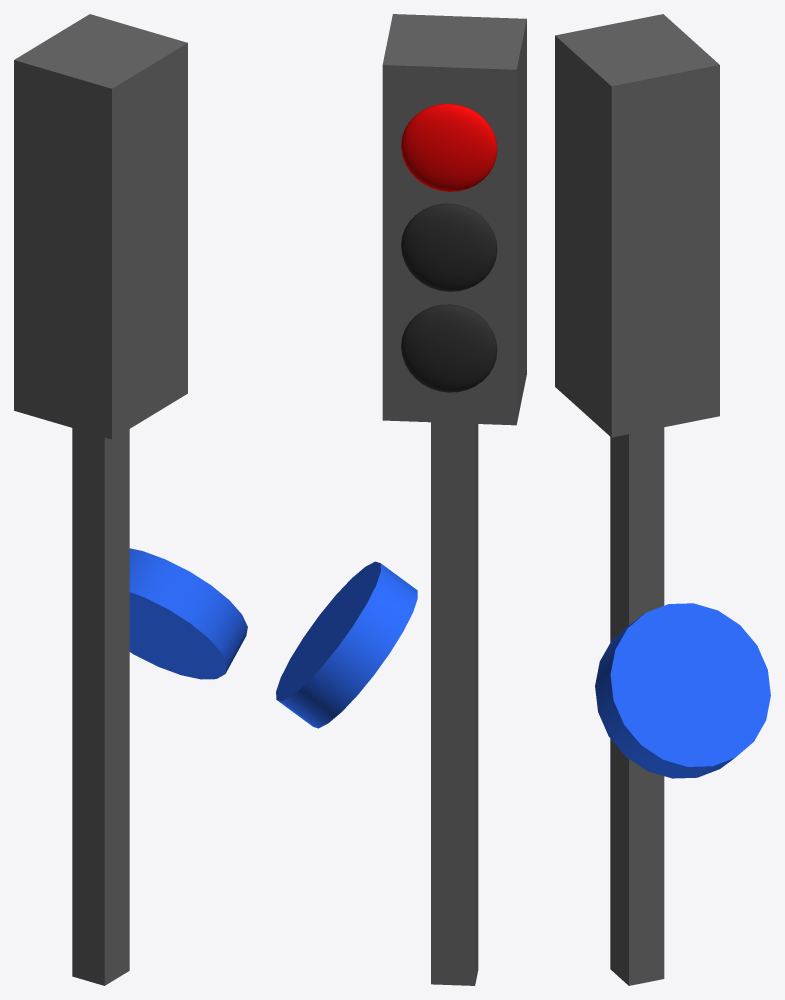
The model's file is 20241118-TrafficLight (Color Interpolate).glb.
3 views of the same model, side by side, from view 1: azimuth 30°, elevation 25°; view 2: azimuth 150°, elevation 25°; view 3: azimuth 270°, elevation 25° (orthographic).
Visible parts, largest first — view 1: Cube, Cube (1), Cylinder; view 2: Cube, Cube (1), Cylinder, Bottom, Middle, Top; view 3: Cube, Cylinder, Cube (1).
Boxes of the visible parts, box(x1,y1,x2,y2) form: Cube: box(14, 14, 187, 439); Cube (1): box(72, 428, 129, 985); Cylinder: box(129, 548, 247, 679); Cube: box(382, 14, 526, 425); Cube (1): box(431, 422, 478, 985); Cylinder: box(276, 561, 417, 728); Bottom: box(401, 304, 497, 392); Middle: box(401, 203, 497, 291); Top: box(401, 103, 497, 191); Cube: box(555, 14, 719, 437); Cylinder: box(595, 603, 770, 778); Cube (1): box(610, 427, 664, 985).
Size of the model in its own units: 1.11 by 4.37 by 0.9264.
